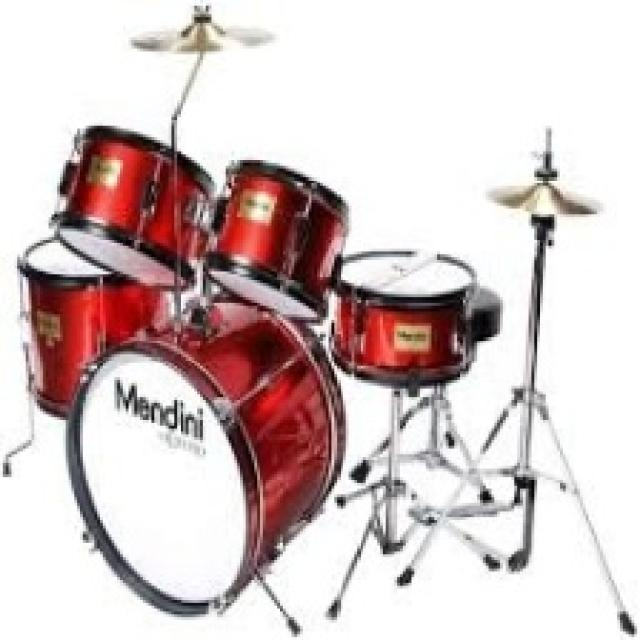drums: (23, 6, 630, 626)
